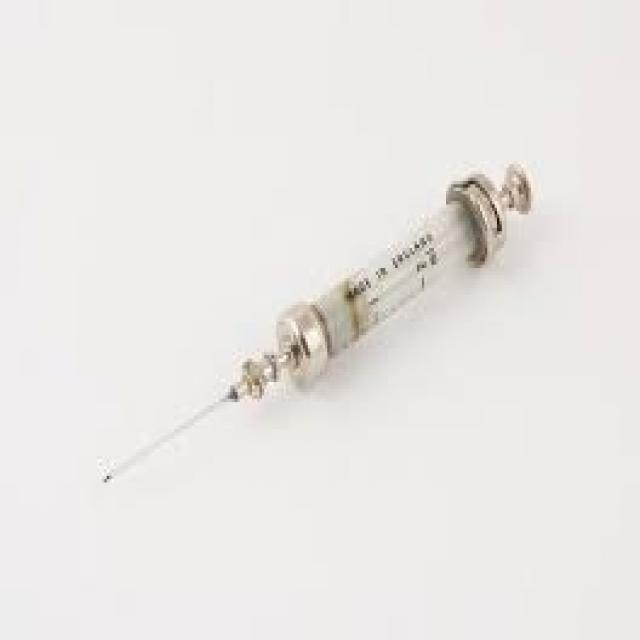syringe: (79, 163, 557, 492)
